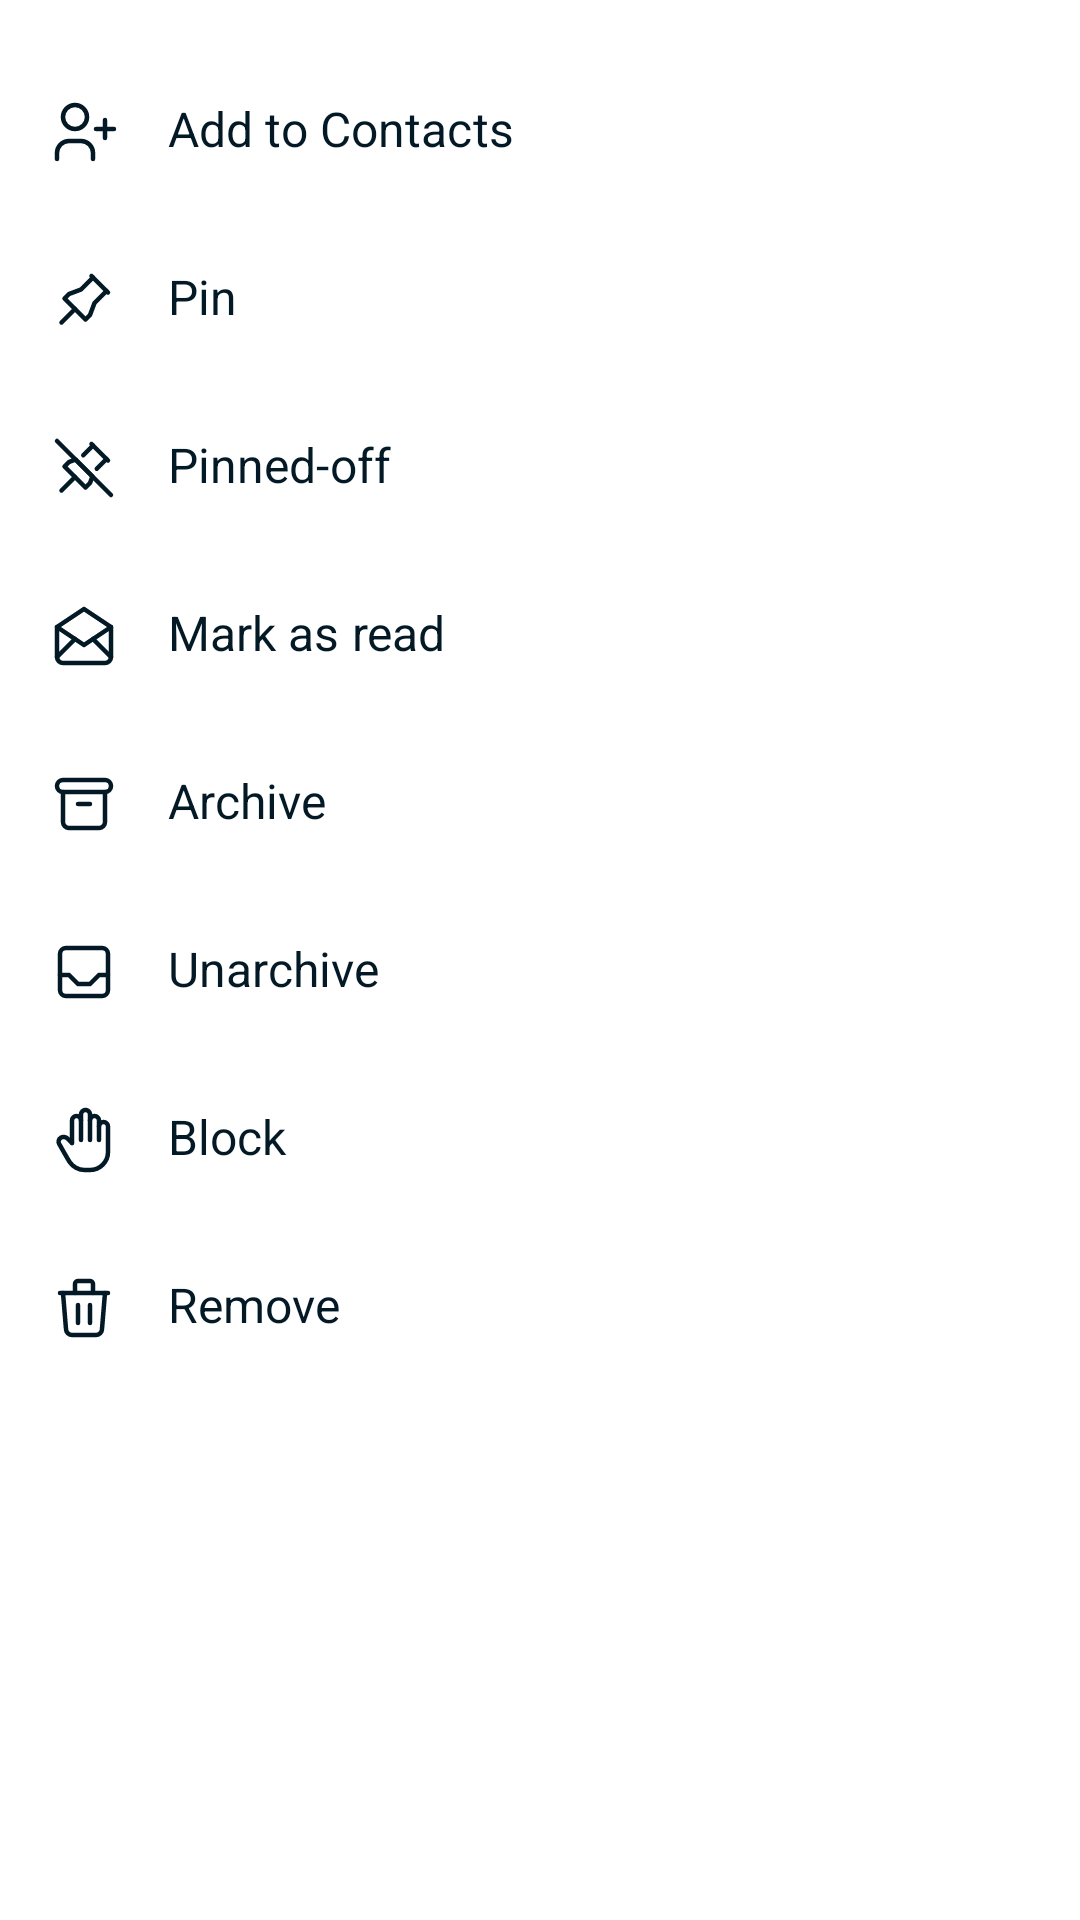

Icons on this 1080 × 1920 Android screen, each with its box as (x1, y1, x2, y2):
add profile: (54, 102, 116, 162)
inbox: (57, 945, 111, 999)
